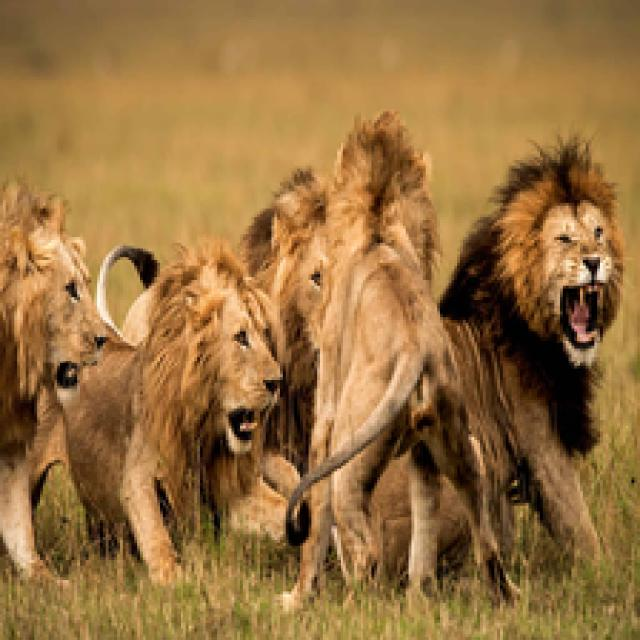lion: (284, 121, 525, 599), (44, 263, 296, 590), (439, 154, 636, 547), (0, 168, 115, 598), (239, 168, 352, 368)
